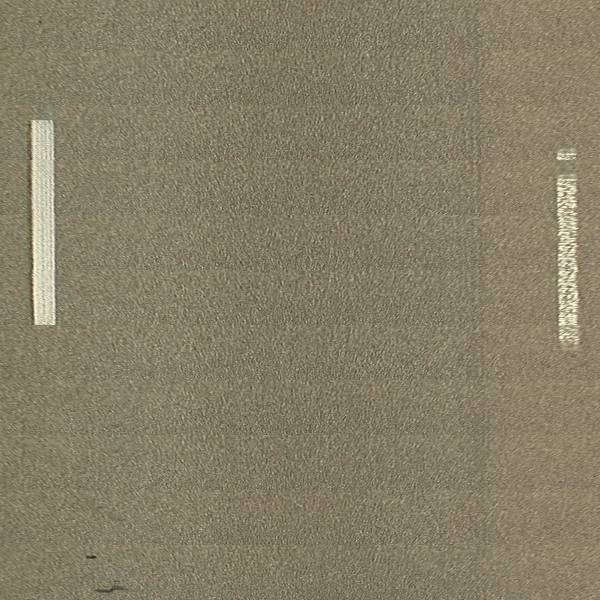road_damage: (86, 552, 132, 600)
